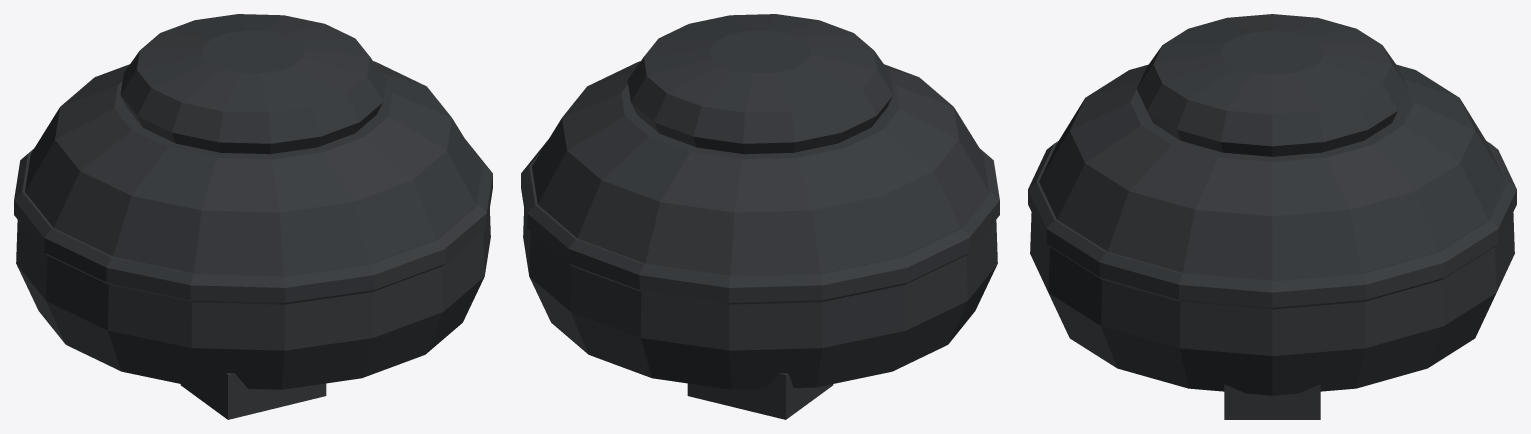
Rendered from TOURNAMENT_MINE.shadow.glb.
The picture shows the model from 3 angles, left to right: view 1: azimuth 30°, elevation 25°; view 2: azimuth 150°, elevation 25°; view 3: azimuth 270°, elevation 25°; orthographic projection.
Parts seen in each view (by area): view 1: Body_Mesh; view 2: Body_Mesh; view 3: Body_Mesh.
Boxes of the visible parts, x1,y1,x2,y2 form: Body_Mesh: (14, 14, 492, 419); Body_Mesh: (521, 14, 999, 419); Body_Mesh: (1028, 14, 1516, 419).
Bounding box in the file's own units: 0.234 × 0.146 × 0.234.
Materials: 1 (1 with a texture image).
